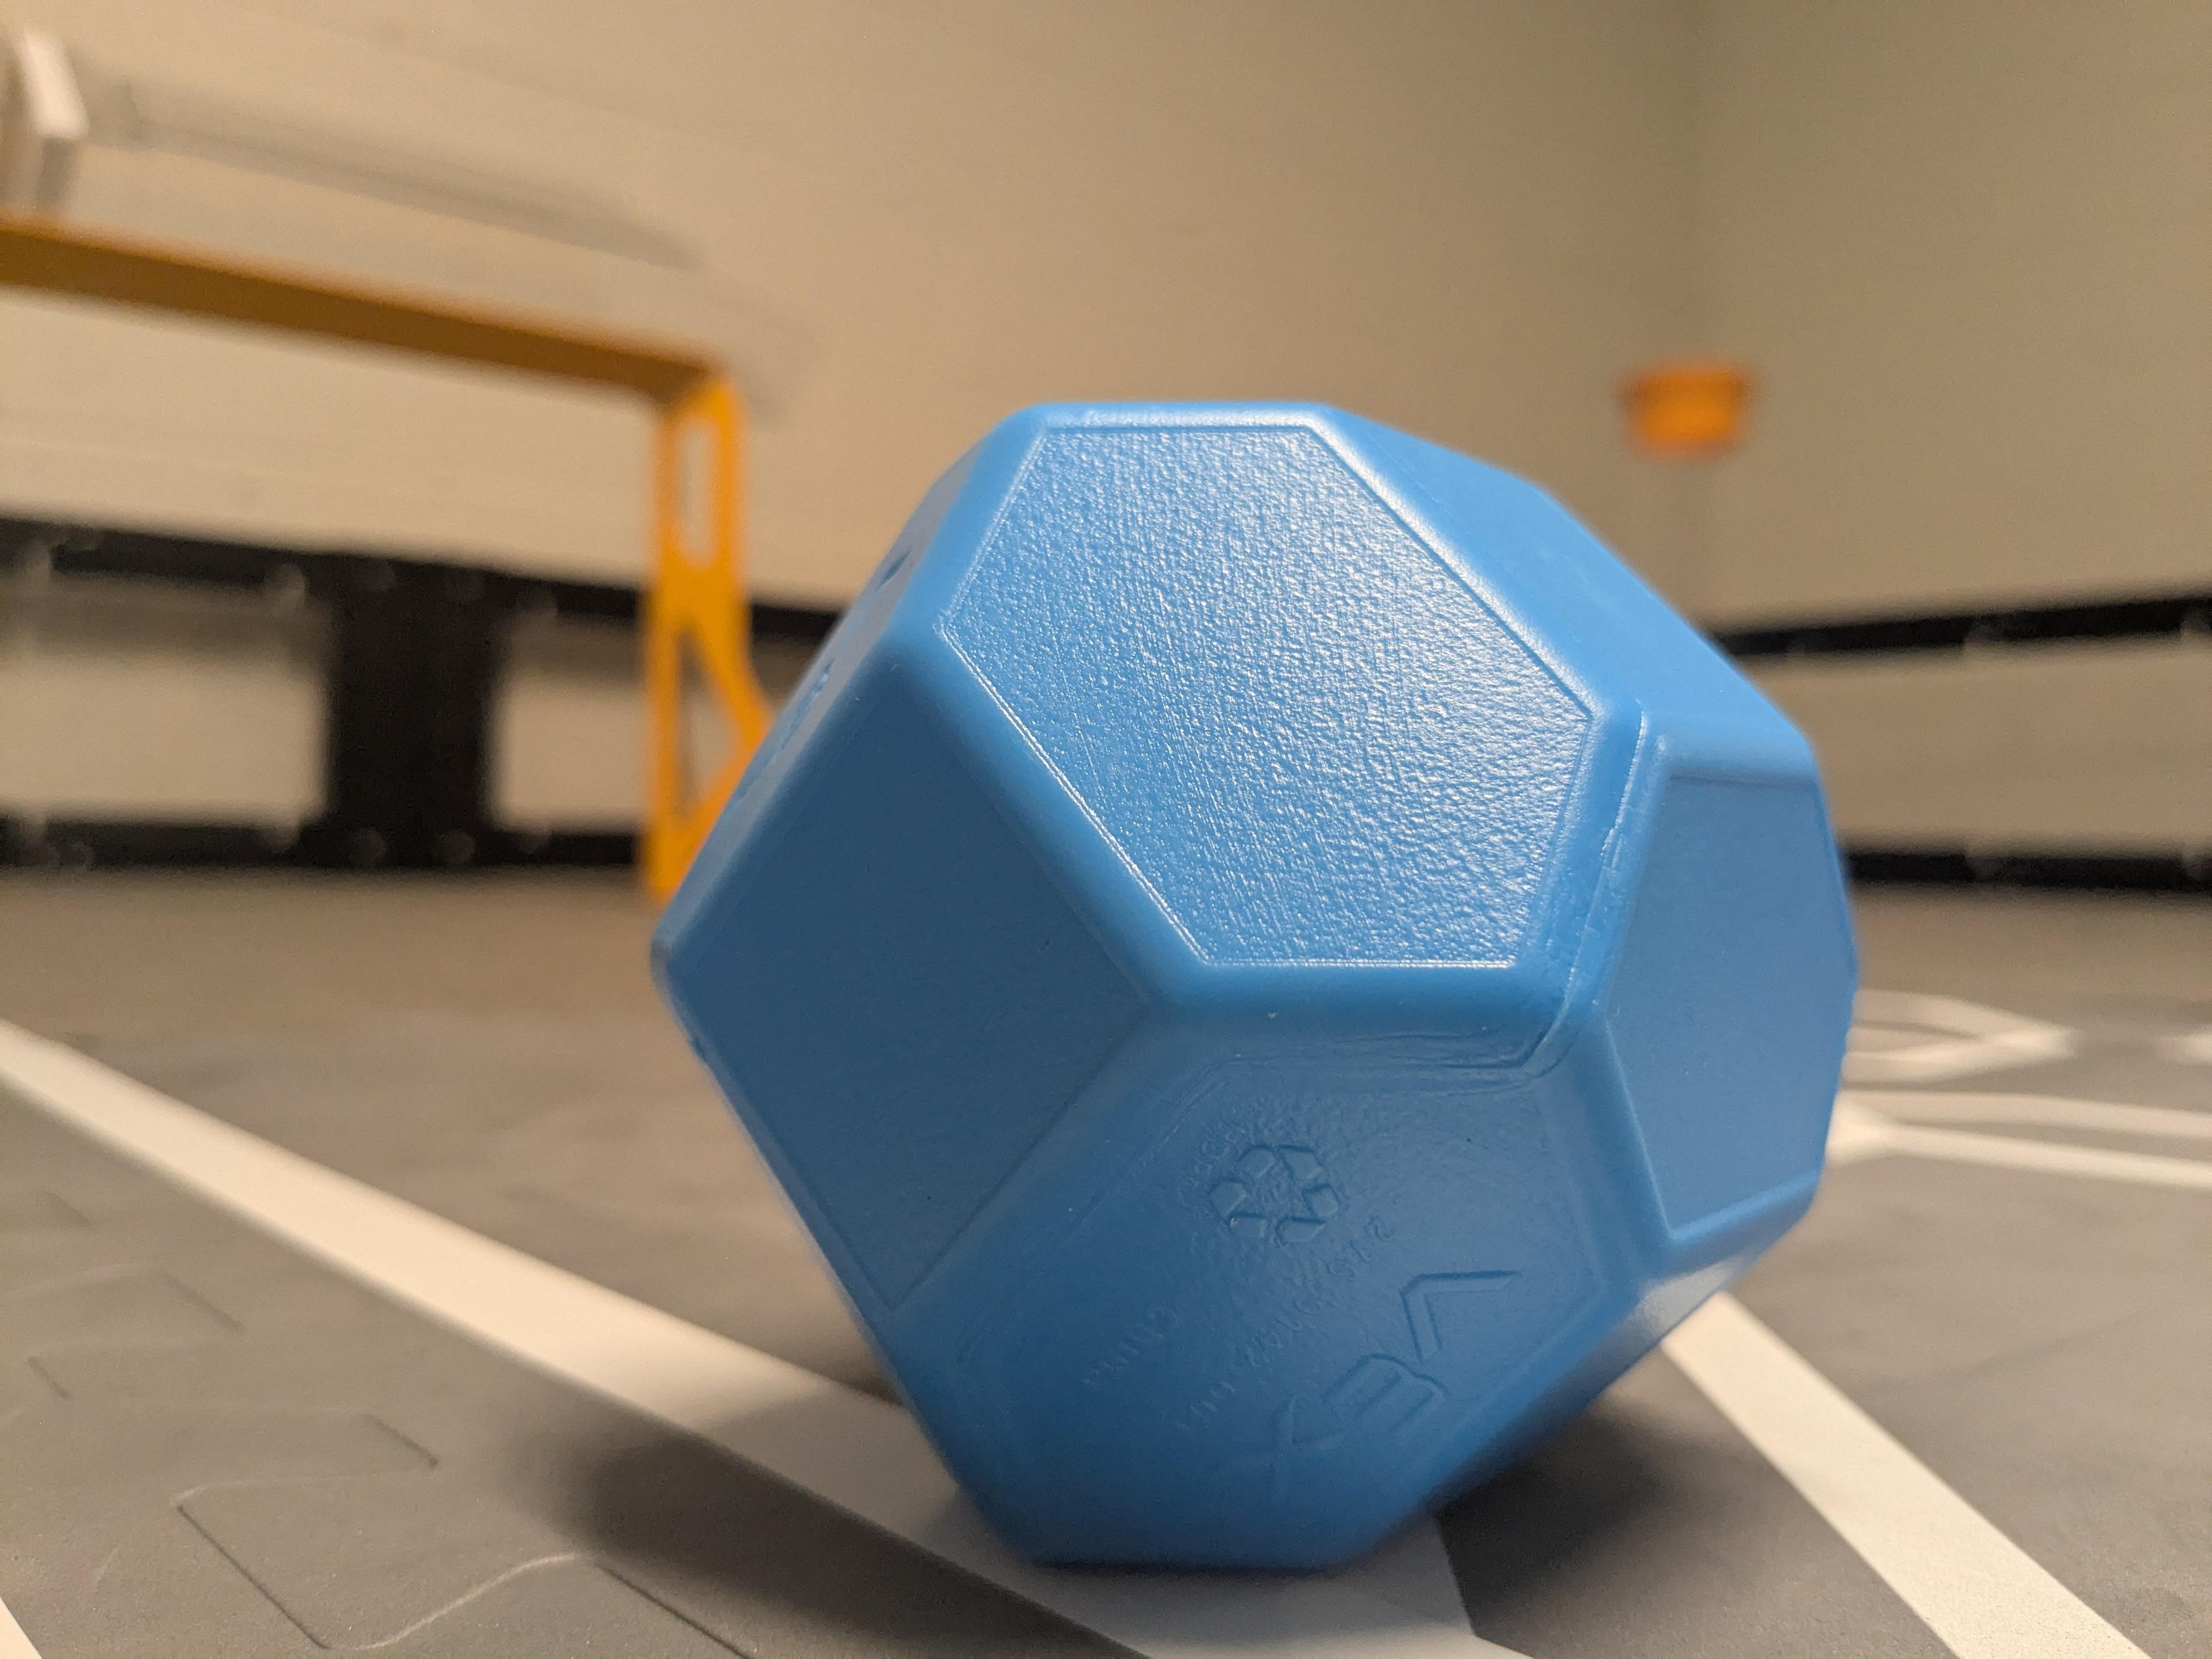Vex-Pieces-BLUE: (646, 634, 1834, 1584)
